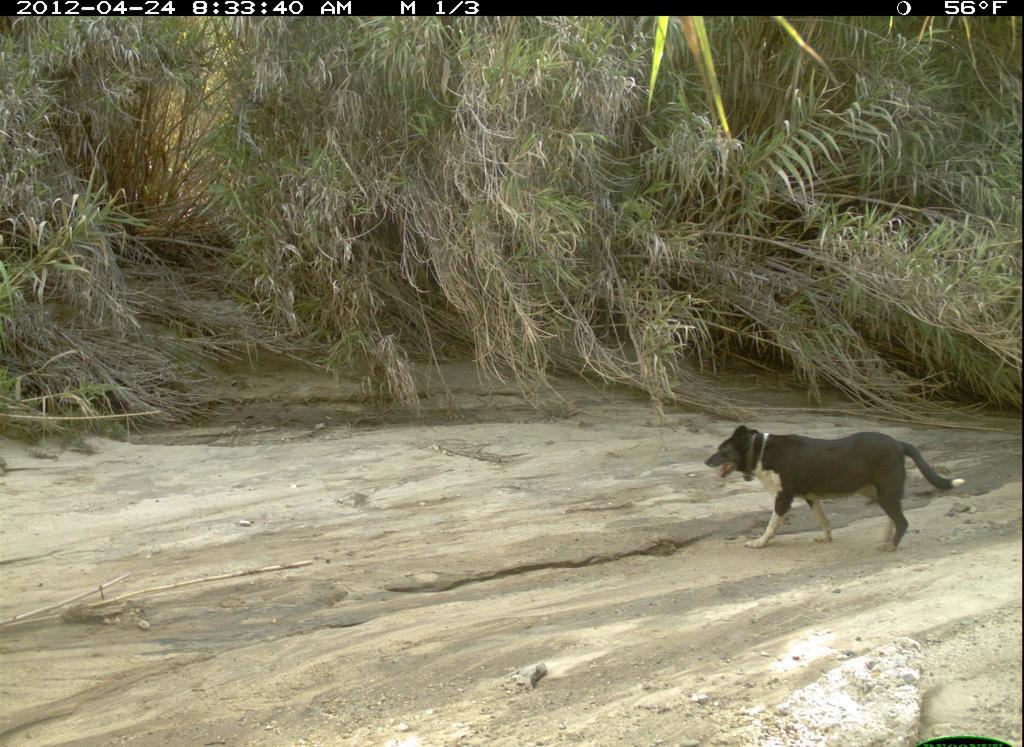dog: (702, 415, 985, 570)
